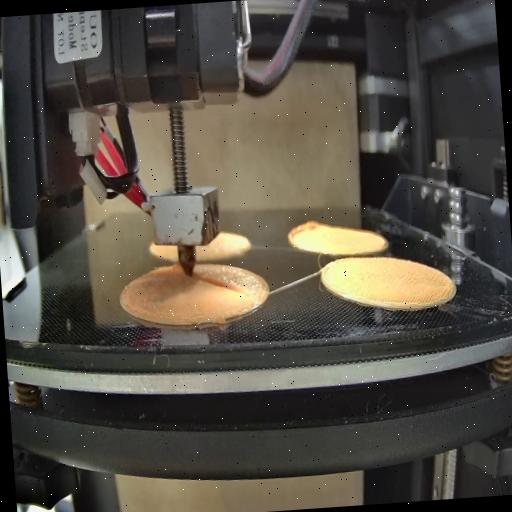over_extrusion: (193, 268, 249, 302), (285, 215, 321, 252), (172, 260, 184, 274)
